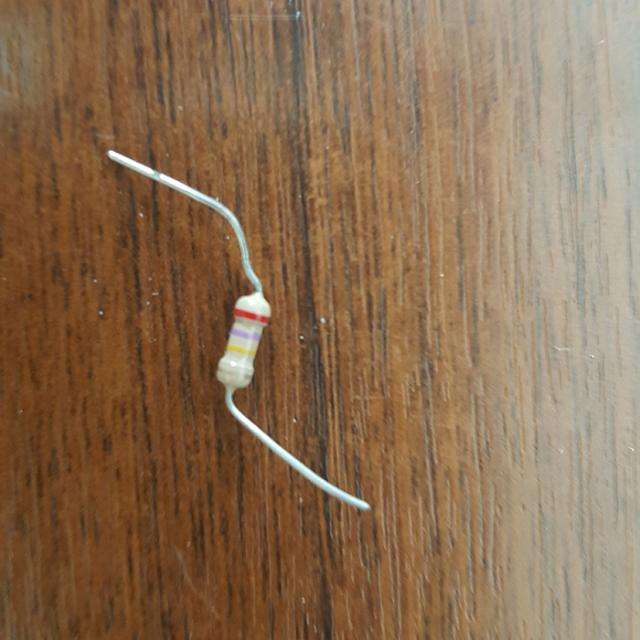gold: (218, 367, 251, 377)
red: (235, 307, 268, 321)
resistor: (197, 285, 288, 405)
violet: (231, 329, 258, 340)
yellow: (227, 345, 252, 354)
